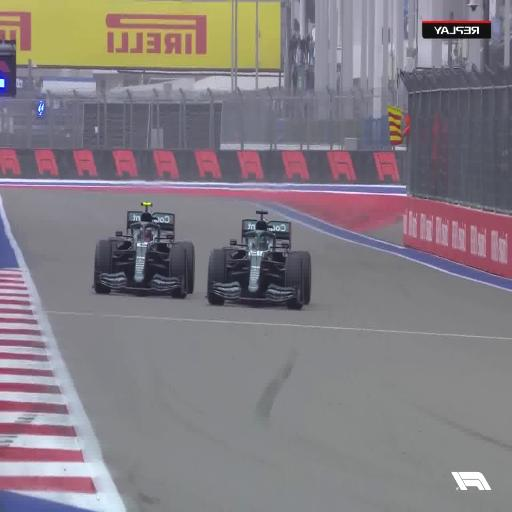f1_car: (207, 210, 311, 309), (93, 201, 195, 297)
